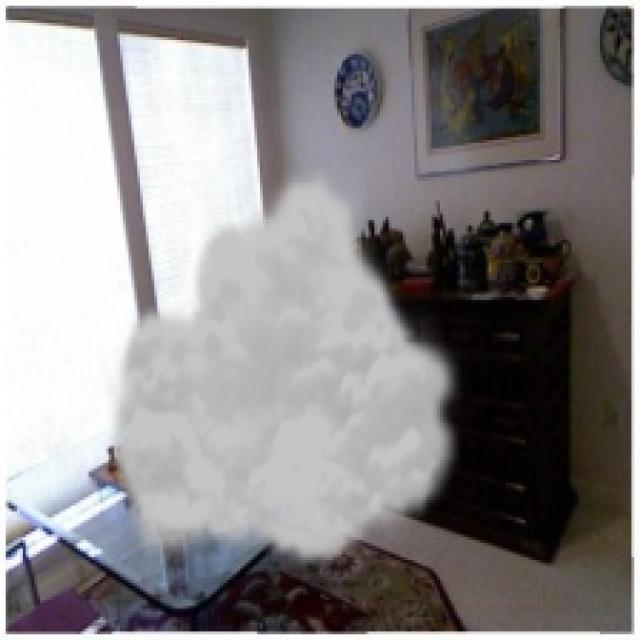Smoke: (102, 162, 468, 568)
